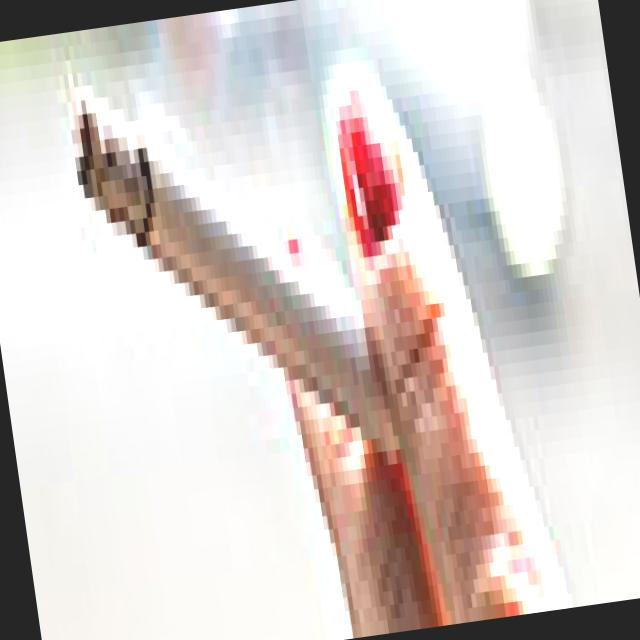smoke: (55, 12, 430, 496)
